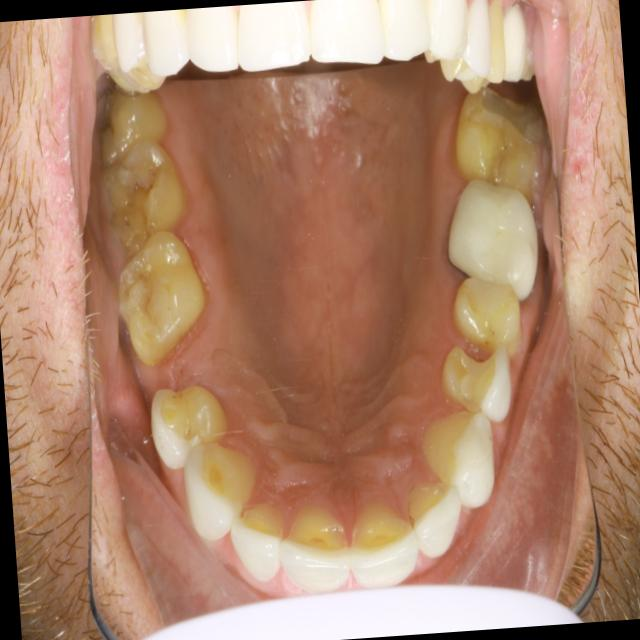tooth: (101, 217, 226, 377), (431, 159, 556, 319), (441, 69, 561, 223), (92, 127, 202, 285), (169, 426, 277, 567), (411, 393, 516, 523), (264, 484, 365, 609), (428, 320, 528, 430), (84, 76, 184, 185), (136, 374, 238, 477), (343, 494, 435, 604), (440, 266, 533, 363), (222, 484, 300, 594), (403, 475, 476, 567)
